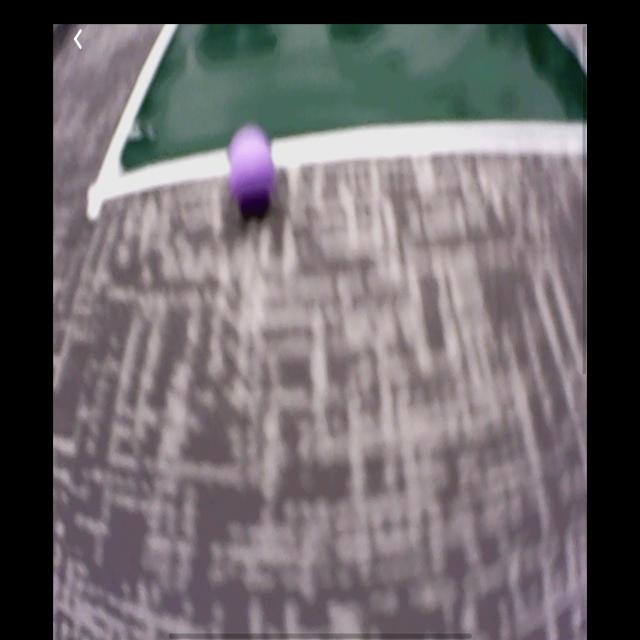ball: (227, 123, 277, 223)
